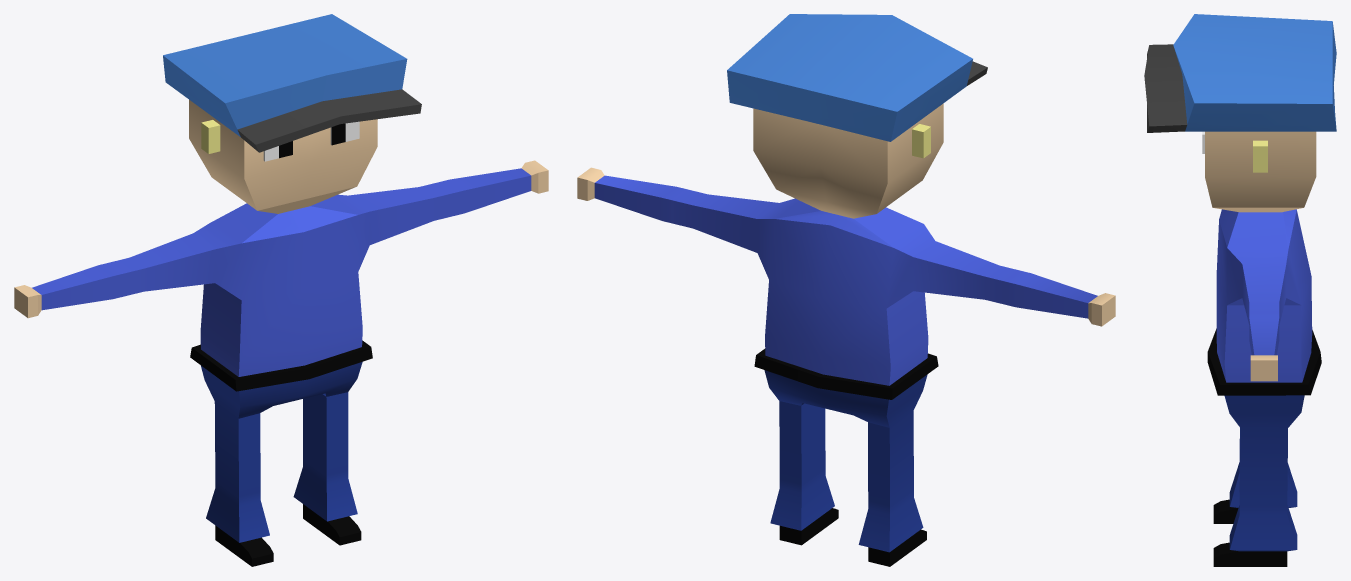
Rendered from LowPolyCharacter.fbx.
3 views of the same model, side by side, from view 1: azimuth 30°, elevation 25°; view 2: azimuth 150°, elevation 25°; view 3: azimuth 270°, elevation 25° (orthographic).
Parts seen in each view (by area): view 1: Character, Policehat; view 2: Character, Policehat; view 3: Character, Policehat.
Part boxes in pixels (x1,y1,x2,y2): Character: [14, 100, 548, 566]; Policehat: [163, 14, 421, 152]; Character: [577, 103, 1115, 566]; Policehat: [727, 14, 987, 141]; Character: [1202, 131, 1321, 566]; Policehat: [1144, 14, 1336, 132].
Bounding box in the file's own units: 198 × 179 × 62.99.
